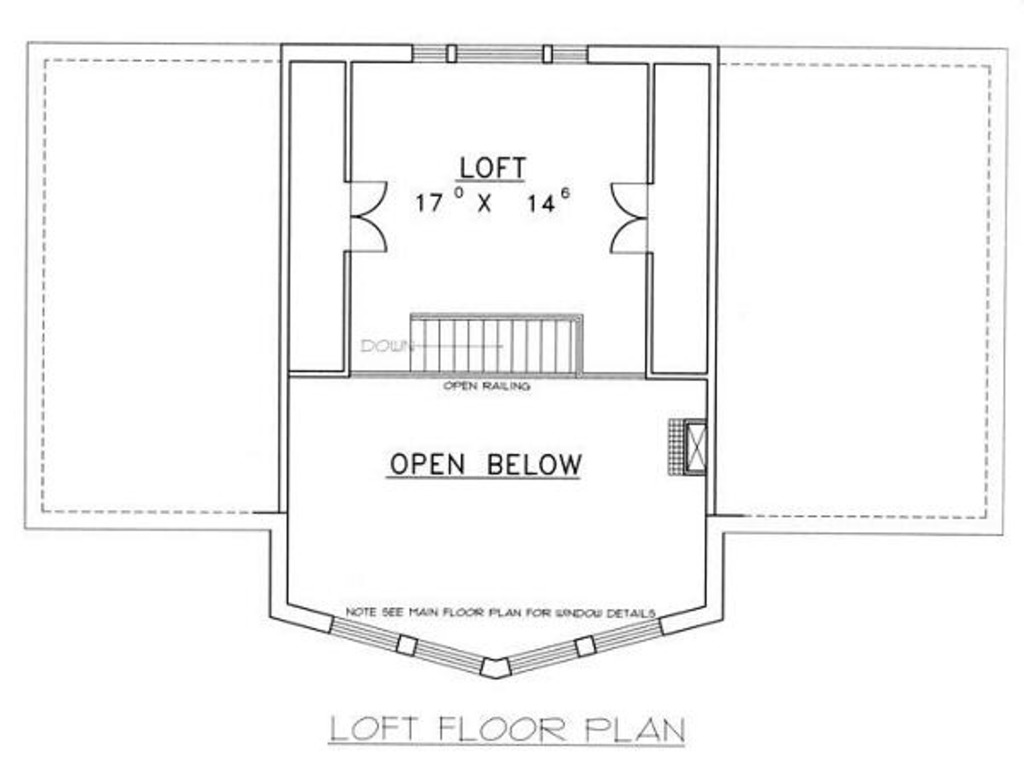door: (337, 174, 400, 260), (602, 177, 660, 257)
stairs: (389, 296, 612, 381)
window: (408, 41, 594, 72), (582, 607, 679, 662), (495, 625, 581, 680), (313, 607, 401, 657), (419, 638, 490, 683)
